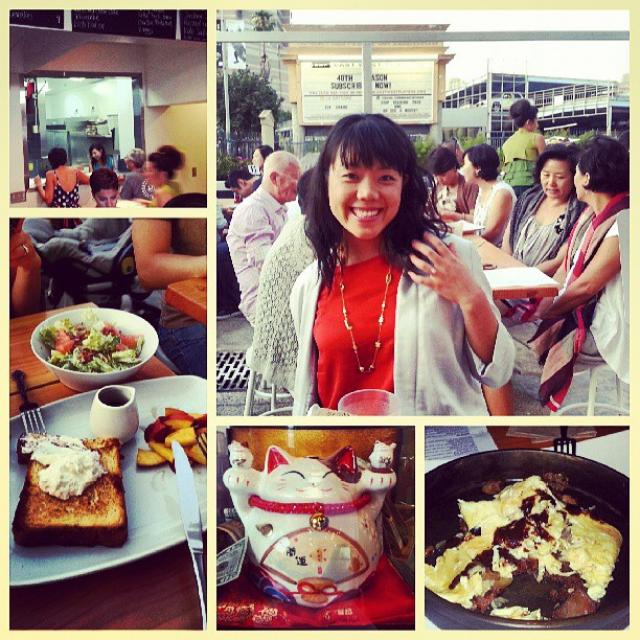chair: (45, 241, 163, 326), (551, 352, 630, 415)
dining table: (6, 300, 206, 629), (417, 427, 630, 636), (482, 265, 559, 300), (461, 231, 527, 271), (165, 278, 207, 328)
